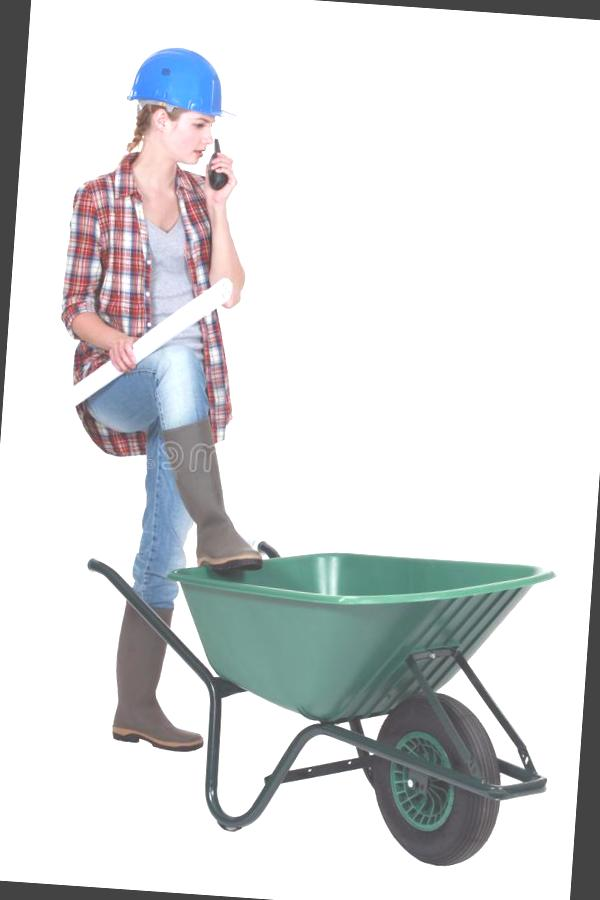helmet: (120, 36, 242, 135)
no_vest: (49, 167, 261, 443)
person: (32, 30, 302, 764)
